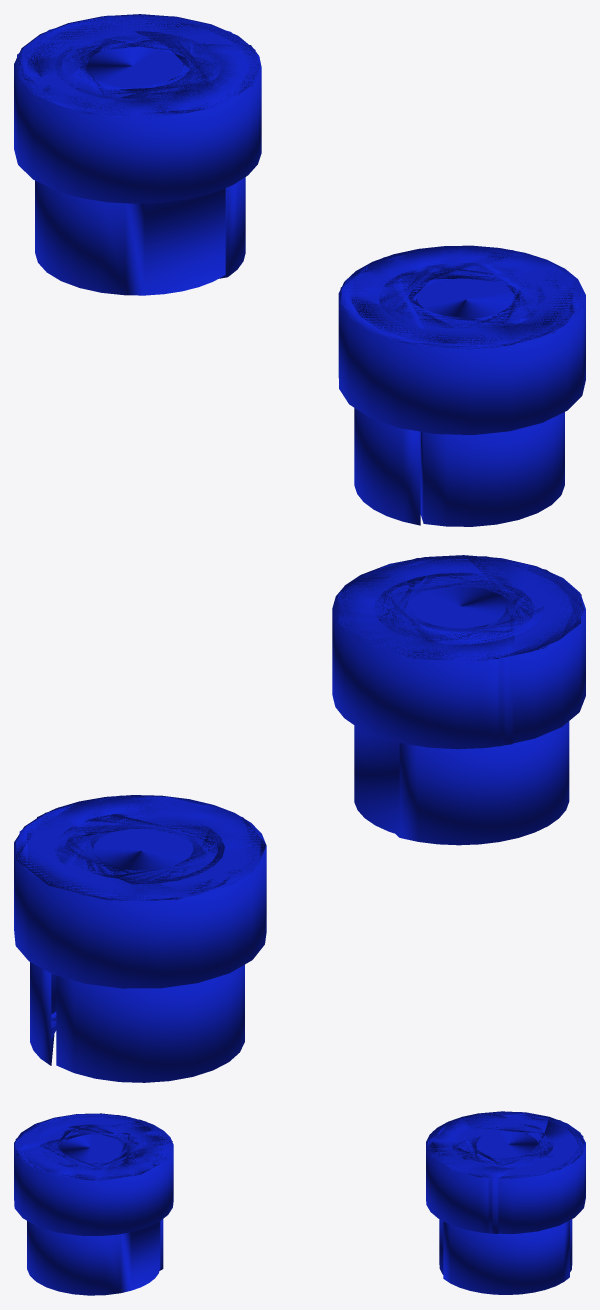
The model's file is tuyeau_element_000010.obj.
The picture shows the model from 3 angles, top to bottom: view 1: azimuth 30°, elevation 25°; view 2: azimuth 150°, elevation 25°; view 3: azimuth 270°, elevation 25°; orthographic projection. The views are drawn at different scales.
Parts seen in each view (by area): view 1: tuyeau2_Cube.017, tuyeau1_Cube.014; view 2: tuyeau2_Cube.017, tuyeau1_Cube.014; view 3: tuyeau1_Cube.014, tuyeau2_Cube.017.
Boxes of the visible parts, x1,y1,x2,y2 form: tuyeau2_Cube.017: [338, 245, 585, 526]; tuyeau1_Cube.014: [14, 14, 261, 295]; tuyeau2_Cube.017: [332, 555, 585, 845]; tuyeau1_Cube.014: [14, 795, 266, 1082]; tuyeau1_Cube.014: [426, 1111, 585, 1294]; tuyeau2_Cube.017: [14, 1113, 173, 1295].
Bounding box in the file's own units: 3625 × 2917 × 12570.
